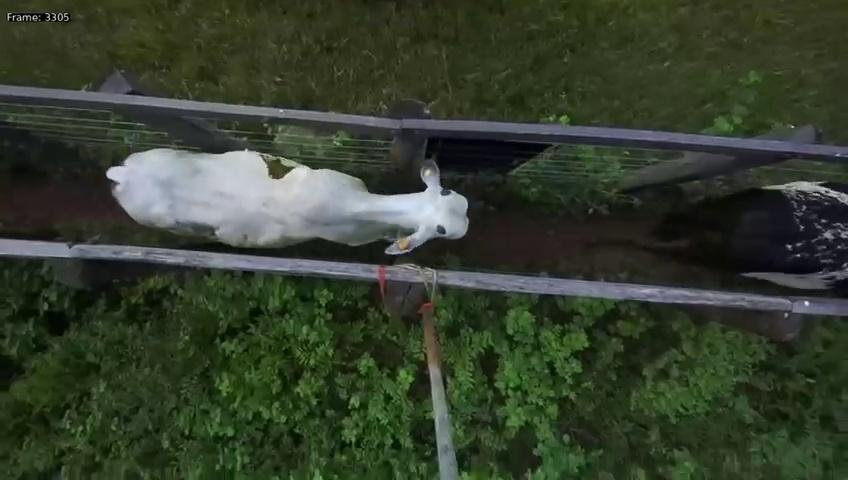cattle: (100, 135, 471, 256)
